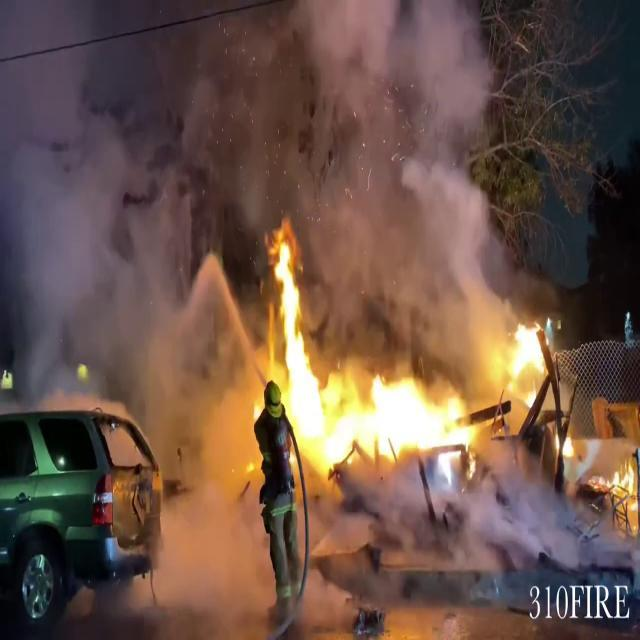Fire: (262, 227, 478, 478), (498, 316, 554, 389)
Smoke: (0, 1, 262, 396), (251, 0, 527, 339)
